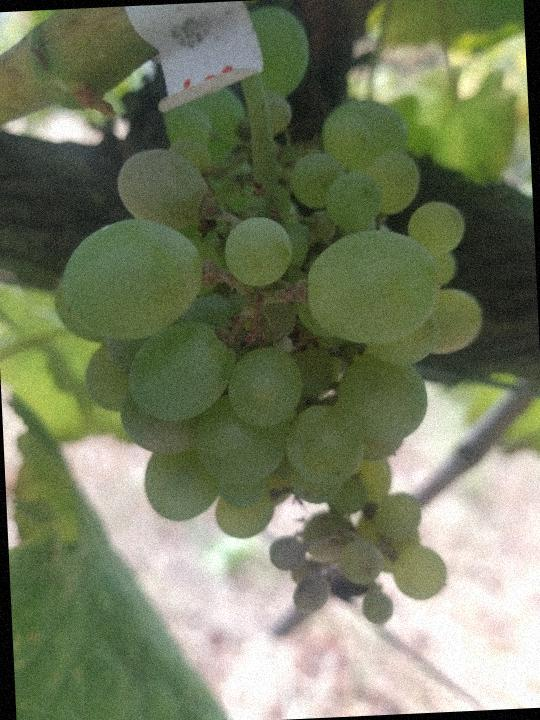grape: (37, 0, 502, 644)
